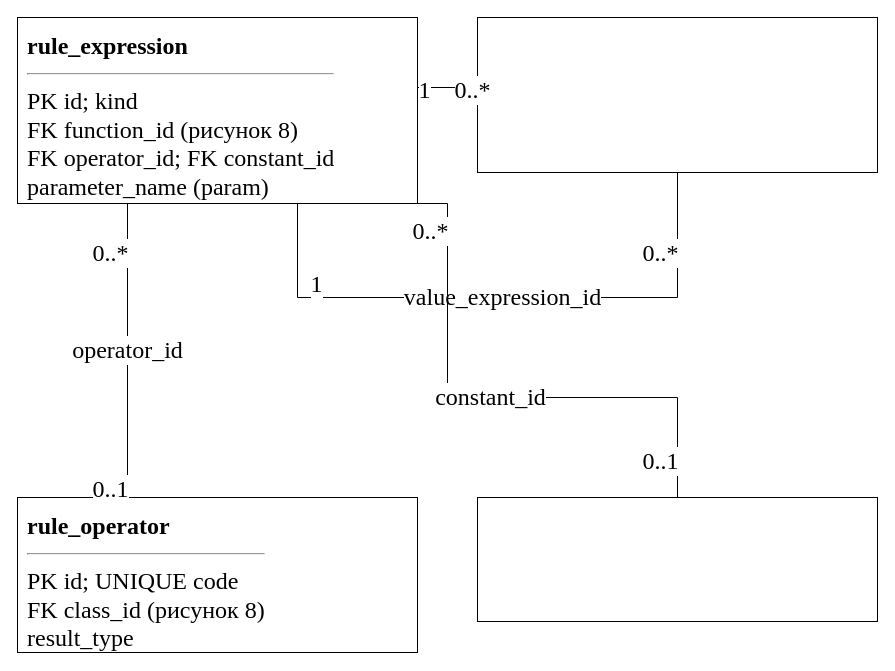
The diagram is 895 pixels wide and 671 high, and some of its shapes have lost their labels. The shapes that lost their labels are listed below. From the top down, each one's centre as x and y in pixels, then its label:
At [677,94]: "rule_actual_argument PK, FK expression_id PK number; name FK value_expression_id".
At [677,559]: "rule_constant PK id; value_type value_text".
